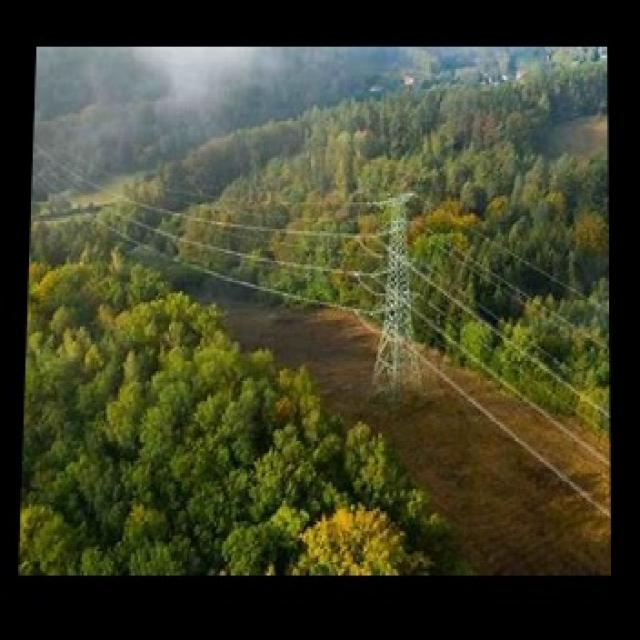utility poles: (350, 181, 438, 397)
